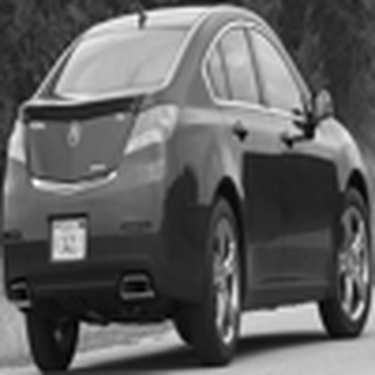car: (1, 5, 370, 373)
